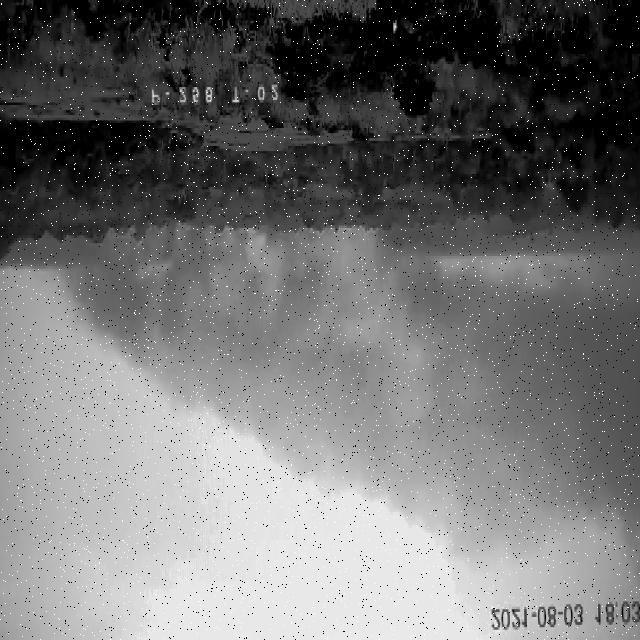asap: (55, 219, 640, 577)
